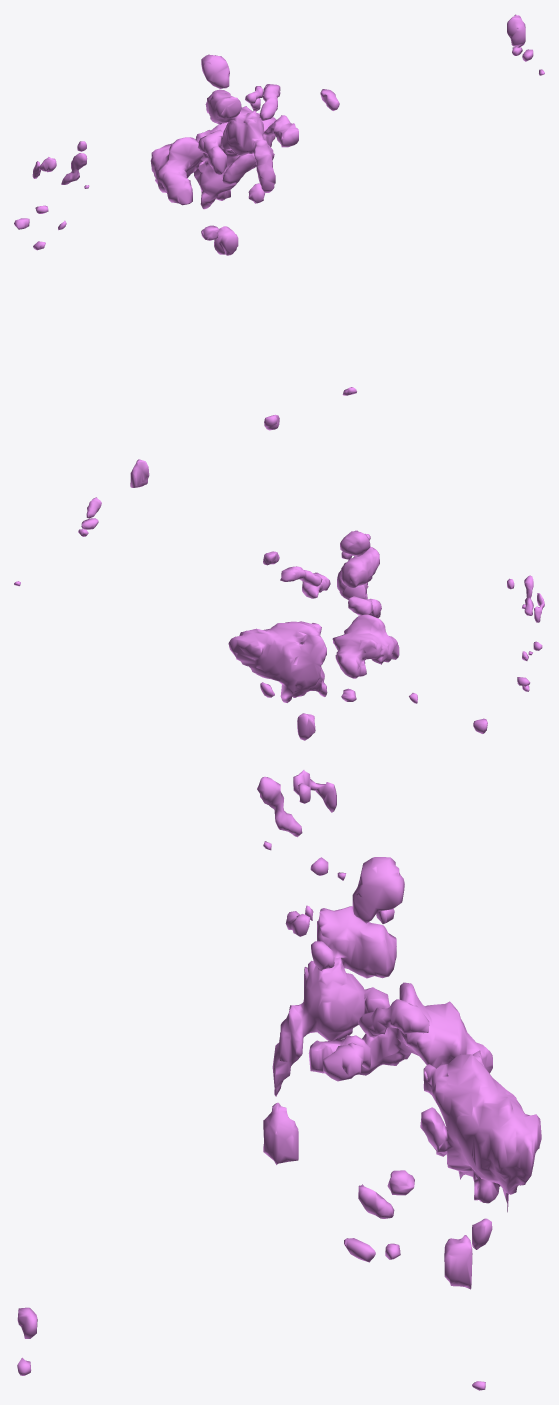
3 views of the same model, one above another, from view 1: azimuth 30°, elevation 25°; view 2: azimuth 150°, elevation 25°; view 3: azimuth 270°, elevation 25° (orthographic). The views are drawn at different scales.
Visible parts, largest first — view 1: Polygonal_Model_8_Triangles_0; view 2: Polygonal_Model_8_Triangles_0; view 3: Polygonal_Model_8_Triangles_0.
Part boxes in pixels (bbox=[...]): Polygonal_Model_8_Triangles_0: bbox=[14, 14, 544, 430]; Polygonal_Model_8_Triangles_0: bbox=[14, 459, 544, 740]; Polygonal_Model_8_Triangles_0: bbox=[17, 770, 541, 1390].
Size of the model in its own units: 11.36 by 5.67 by 5.26.
